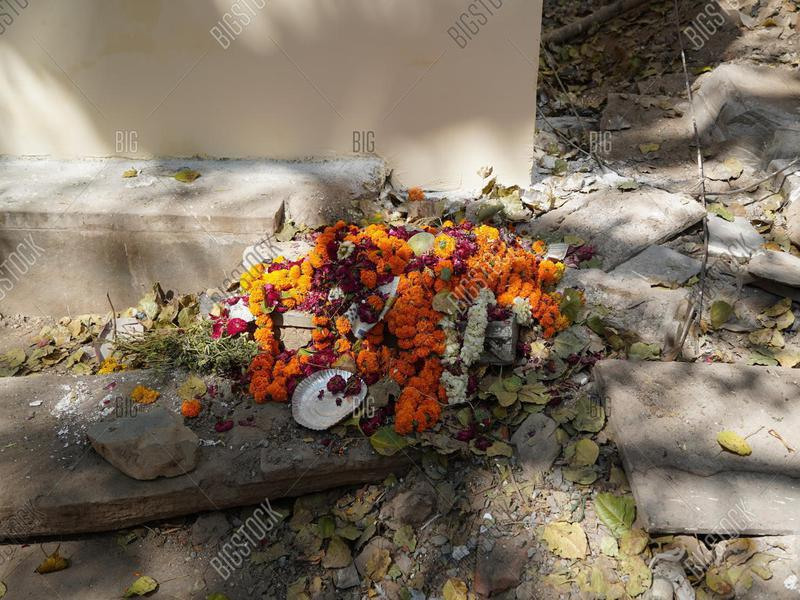flowers: (195, 211, 577, 439)
